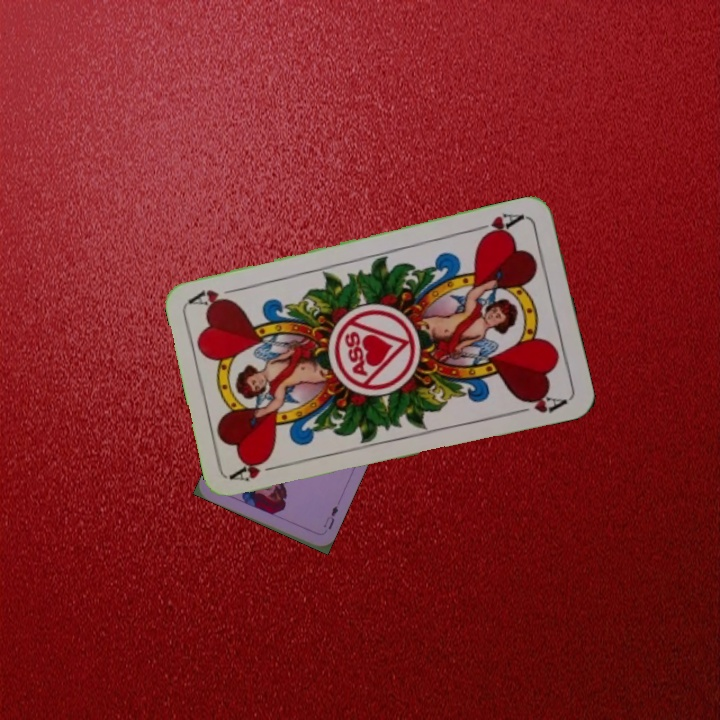EU: (319, 501, 341, 532)
HA: (228, 452, 287, 484), (470, 209, 527, 242)
